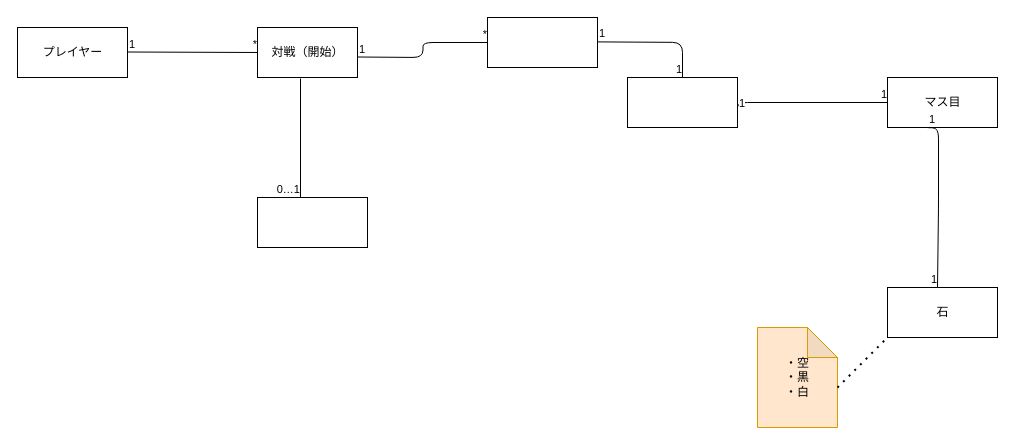
This 1015x445 diagram has some shape labels left out. The centre of each missing label's shape, as x and y in pixels:
ターン: pixel 542 42
勝敗: pixel 312 222
盤面を見る: pixel 682 102
